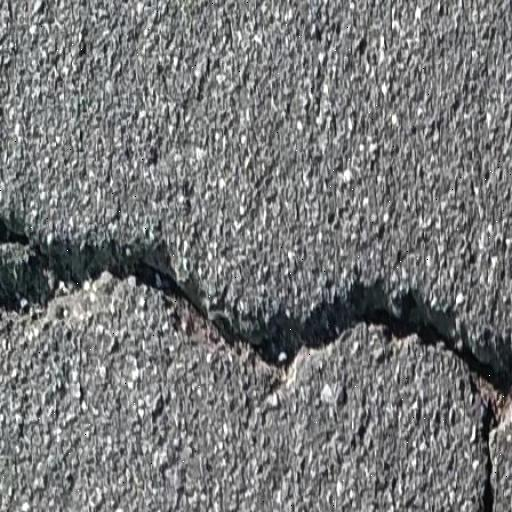spalling: (2, 211, 511, 417)
